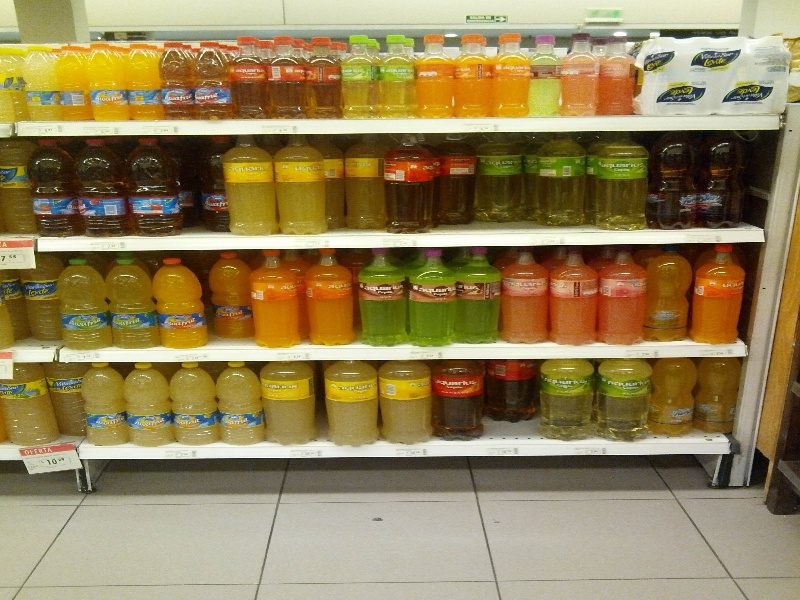lemonade: (126, 137, 190, 239), (403, 246, 461, 344), (385, 133, 439, 237), (225, 135, 280, 237), (74, 137, 128, 239), (690, 247, 746, 345), (275, 134, 330, 233), (496, 248, 548, 348), (253, 255, 306, 353), (595, 138, 646, 239), (597, 248, 648, 346), (156, 262, 211, 351), (309, 253, 362, 343), (361, 251, 409, 350), (57, 261, 113, 343), (124, 362, 177, 442), (334, 35, 382, 122), (216, 361, 266, 443), (171, 363, 219, 443), (264, 34, 308, 118), (120, 45, 167, 122), (414, 34, 455, 118), (82, 362, 121, 445), (524, 34, 558, 119)
